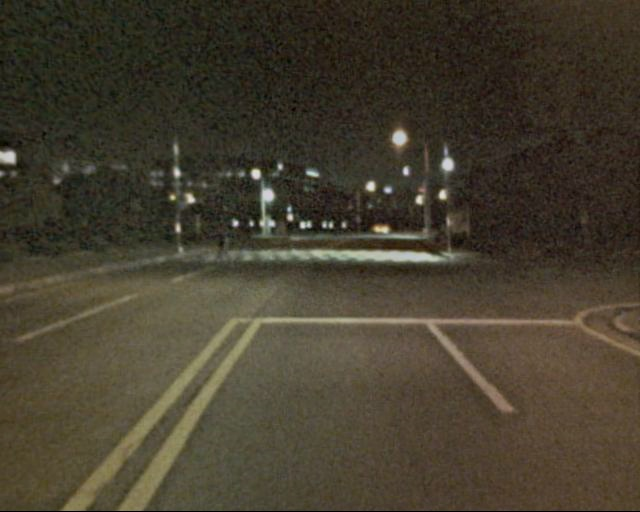person: (210, 222, 232, 273)
